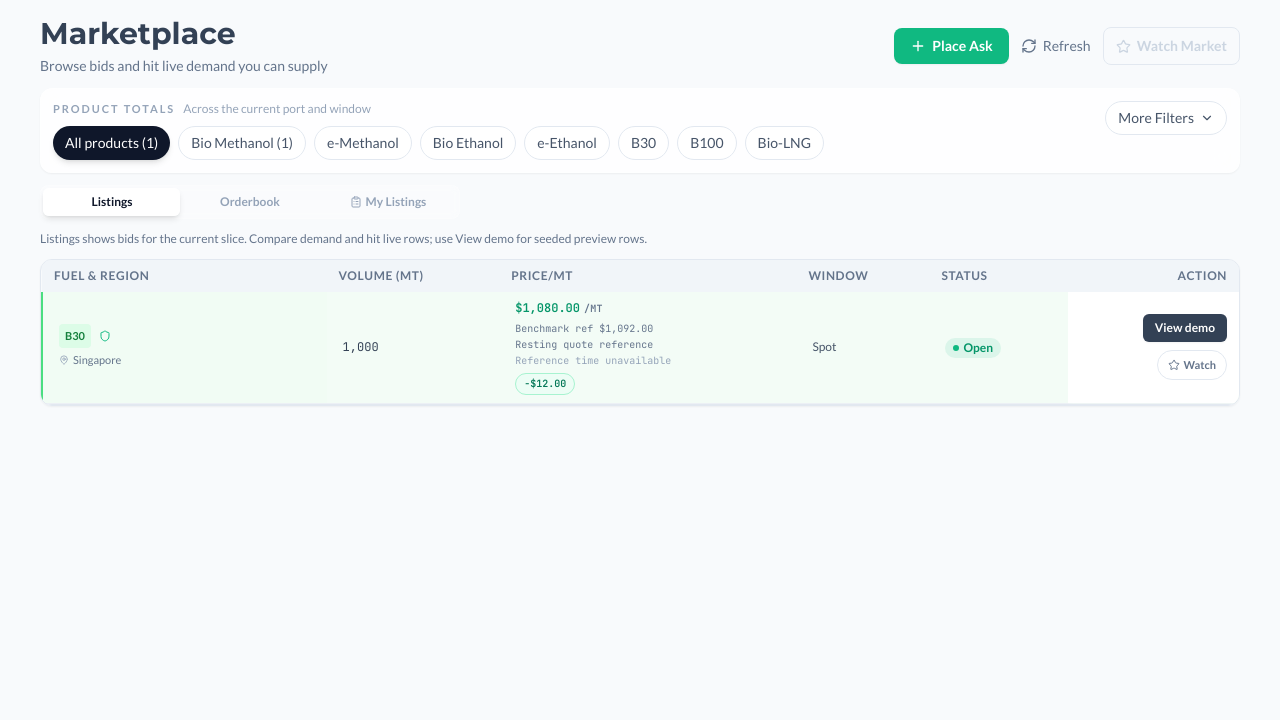
Test: Marketplace green fuels surface › keeps a provenance-marked biofuel demo BID in the preview flow
Step 1. Click the button "View demo" → (1185, 328), box [1143,314,1227,342]
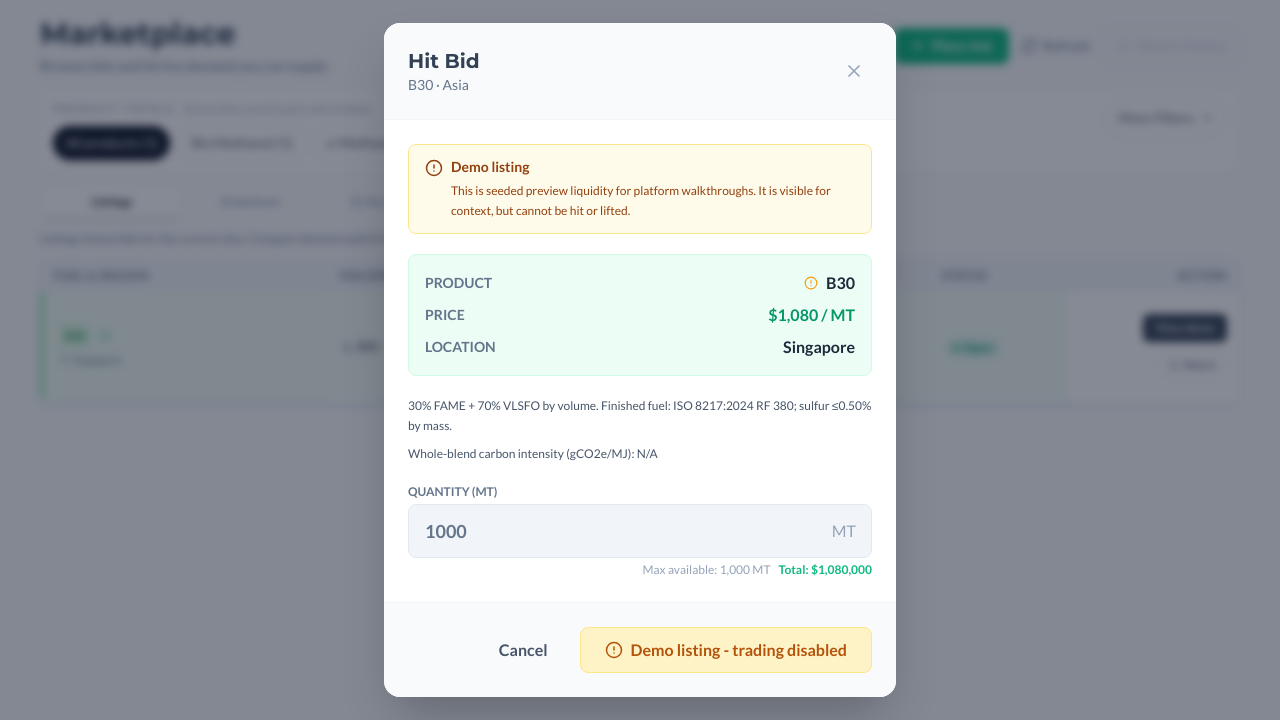
Now the button "Demo listing - trading disabled" is shown, box [580,627,872,673]
